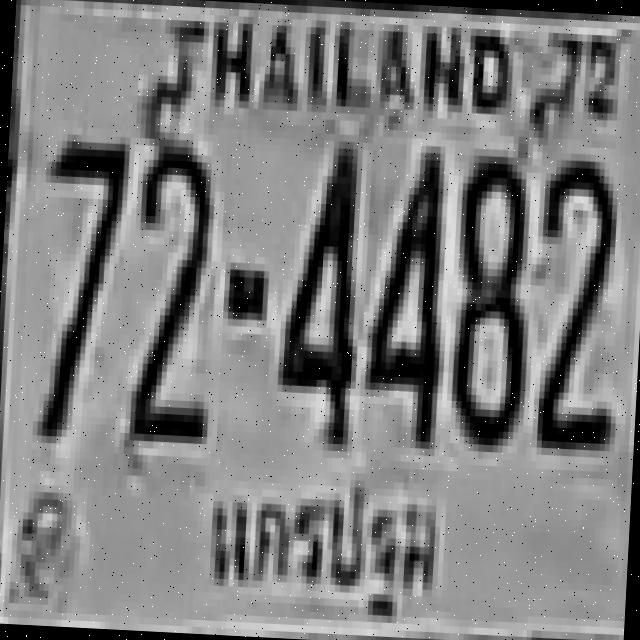2: (528, 152, 620, 444), (128, 138, 215, 430), (128, 138, 214, 409), (531, 153, 617, 416)
4: (275, 139, 363, 438), (360, 144, 448, 436)
7: (32, 133, 126, 440), (34, 133, 126, 404), (38, 133, 126, 341)
8: (446, 152, 532, 444)
NakhonPathom: (198, 458, 448, 628)
